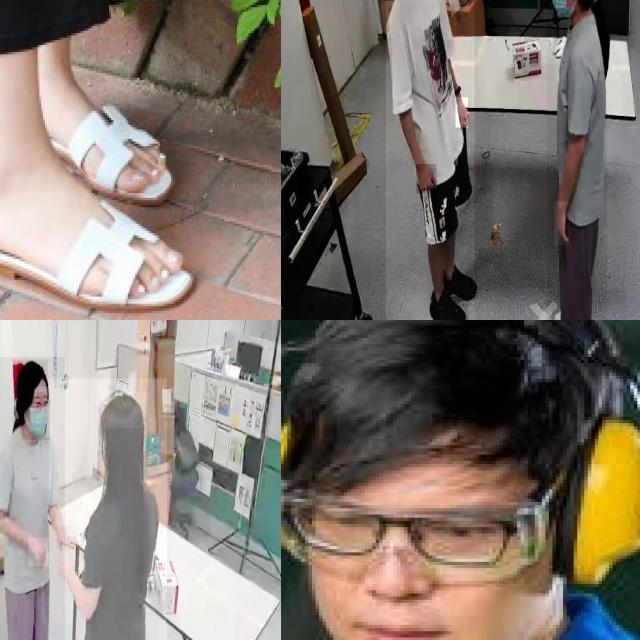Ear-protection: (281, 320, 640, 583)
Sandals: (0, 150, 193, 316), (40, 72, 180, 204)
face_mask: (22, 392, 50, 440), (545, 0, 573, 18)
glasses: (281, 478, 568, 587)
hand_noglove: (554, 201, 570, 246), (416, 164, 437, 194), (28, 537, 48, 567), (56, 526, 78, 551), (56, 548, 68, 580), (456, 98, 468, 128)
head_nohelmet: (102, 392, 144, 429), (17, 360, 48, 387)
person: (48, 378, 167, 640), (386, 0, 475, 320), (546, 0, 607, 320), (0, 357, 64, 640)
shoes: (440, 258, 480, 311), (425, 286, 466, 320), (550, 302, 597, 320)
